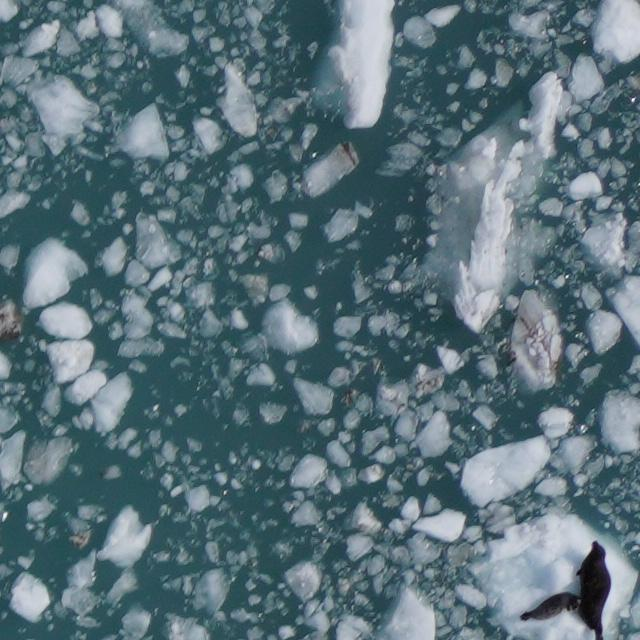seal: (573, 539, 612, 639), (519, 592, 580, 622)
